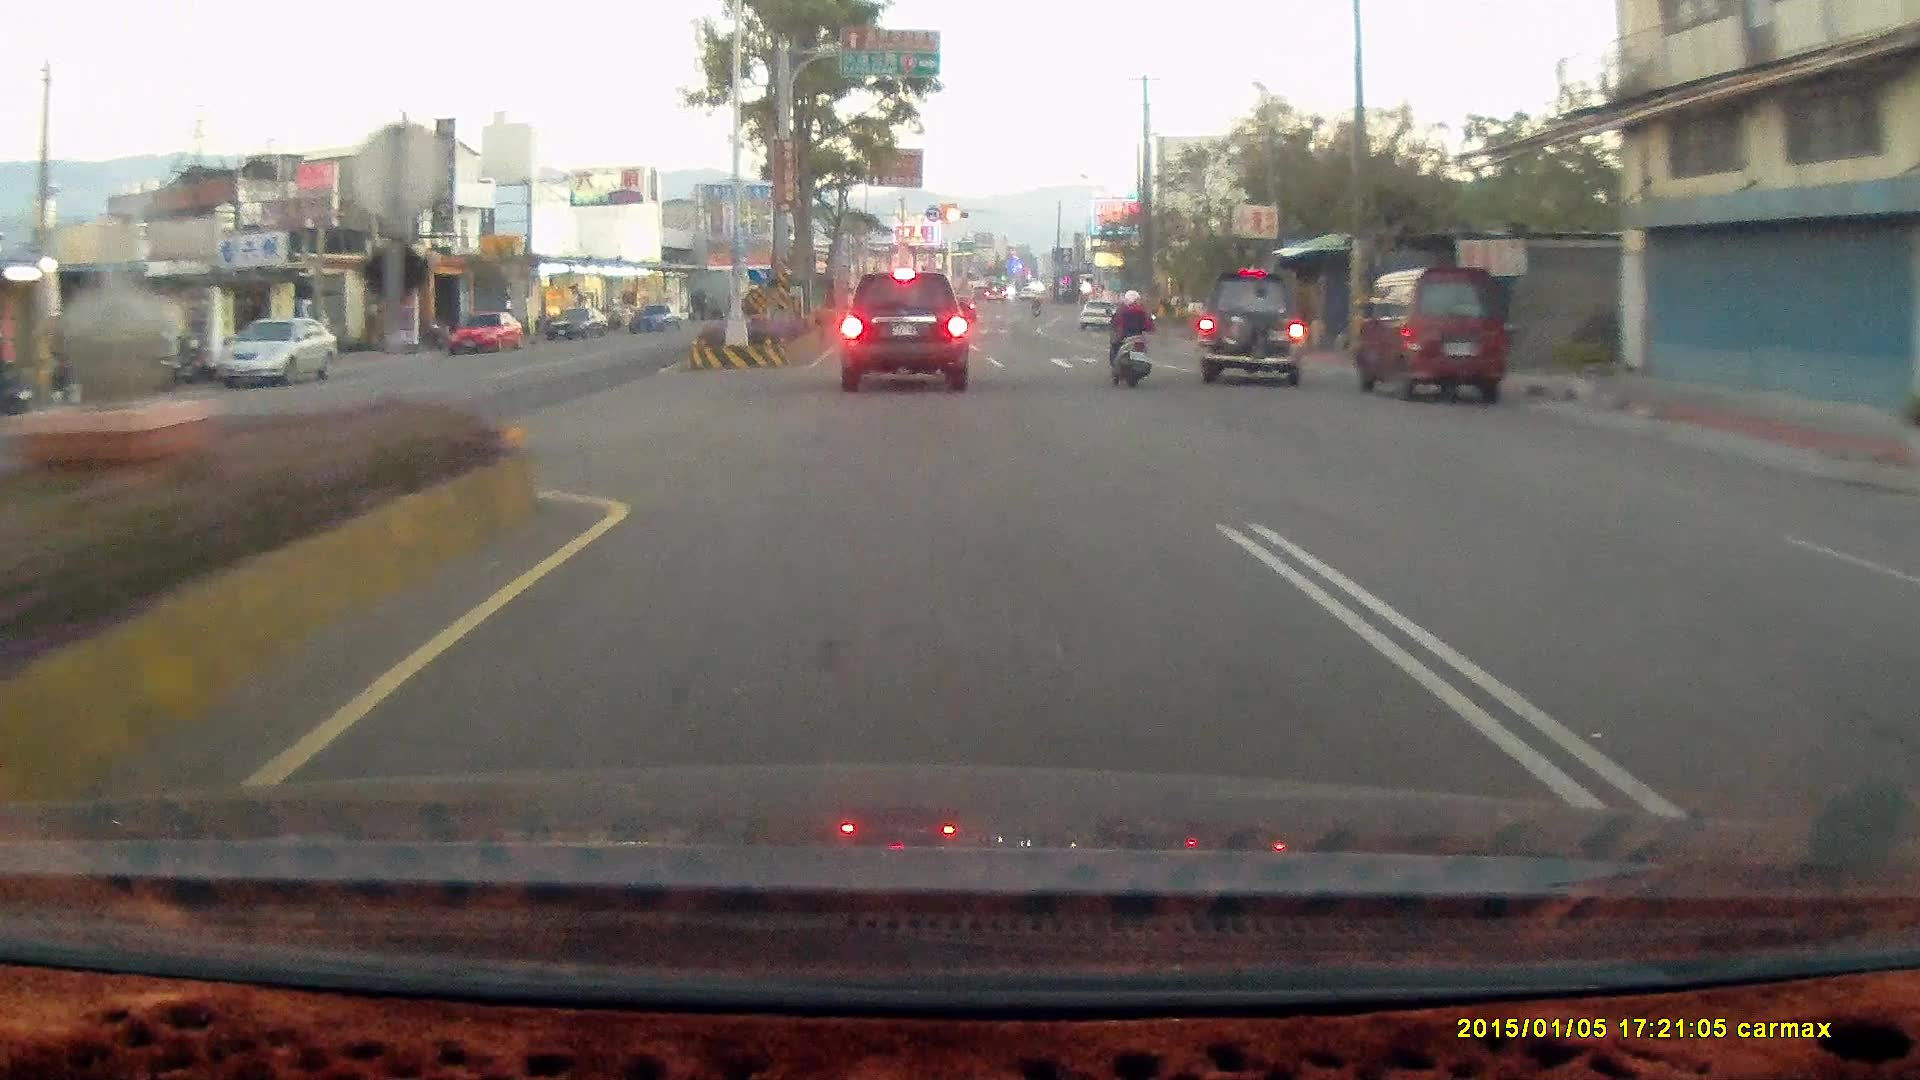rider: (1106, 287, 1153, 390)
vehicle: (1348, 264, 1510, 405), (1360, 262, 1514, 405), (839, 267, 969, 391), (1196, 266, 1318, 382), (1195, 267, 1308, 383), (219, 316, 340, 390), (218, 316, 340, 385), (1896, 493, 1920, 836), (1883, 528, 1920, 690), (446, 309, 527, 354), (445, 308, 524, 353), (1077, 298, 1118, 329)
